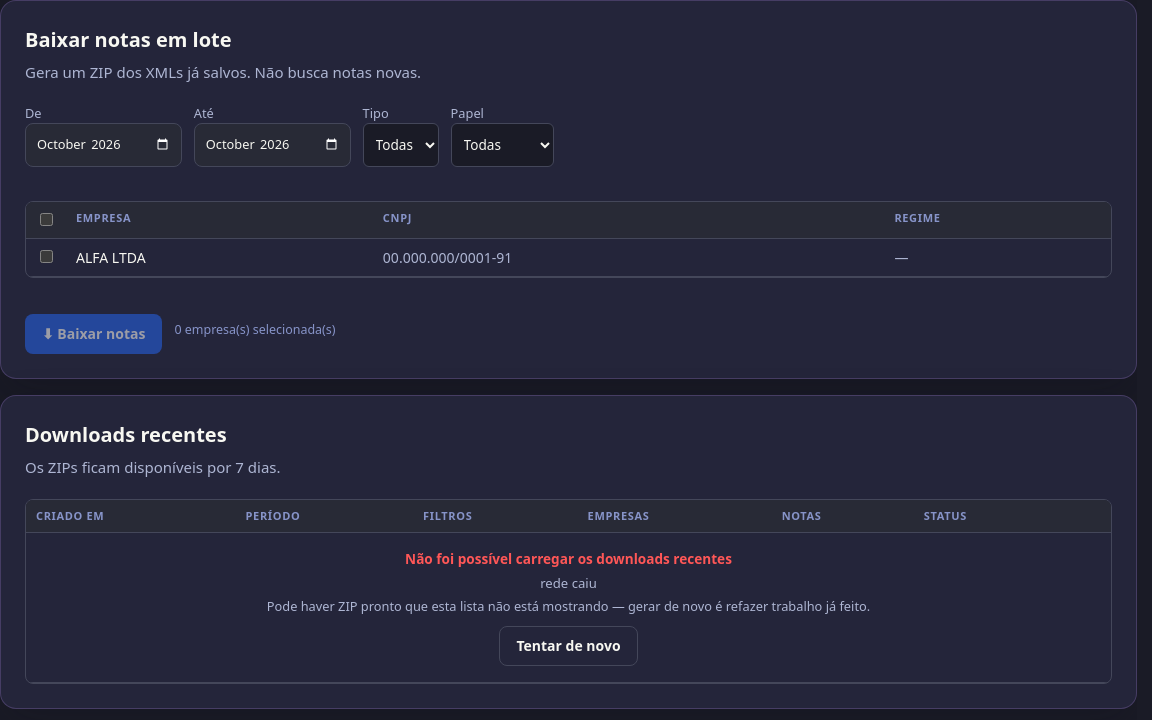
Scenario: Downloads recentes — falha de listagem não é 'não há download' › 'Tentar de novo' recarrega e o ZIP pronto aparece
The width and height of the screenshot is (1152, 720).
Expected: the text "Não foi possível carregar os downloads recentes" is shown, x1=405 y1=549 x2=732 y2=568
Step 1. Click the button "Tentar de novo" → (568, 646), box x1=499 y1=626 x2=638 y2=666
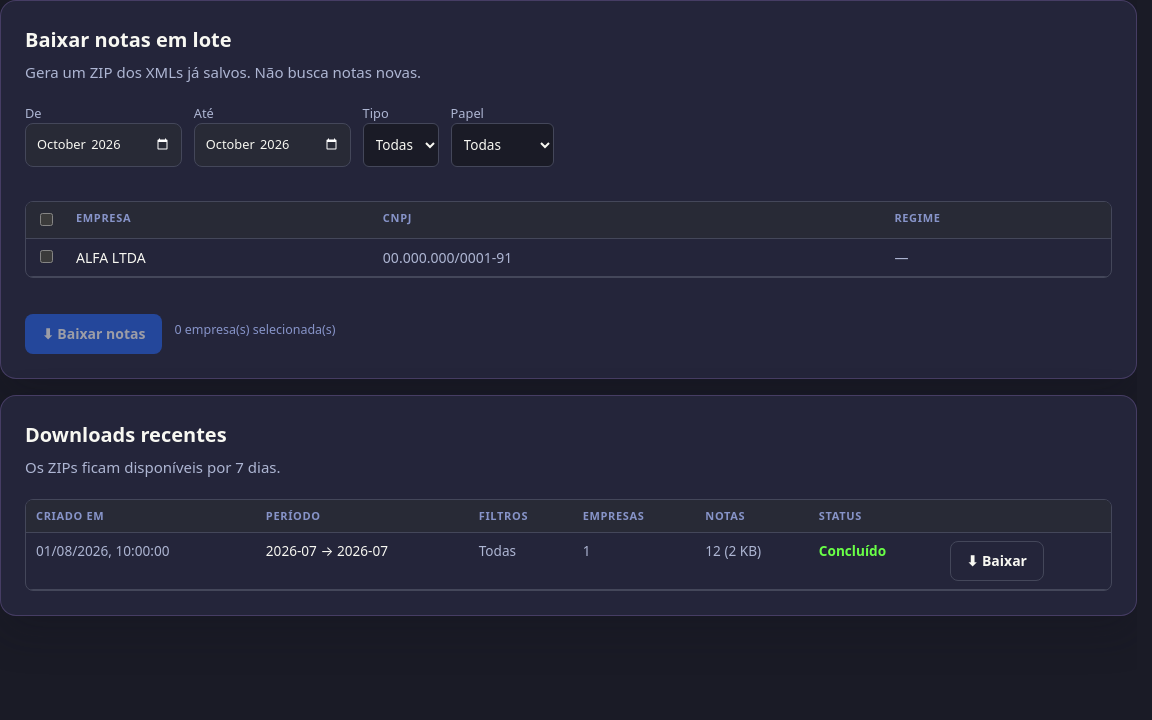
Expected: the button "⬇ Baixar notas" is shown, x1=25 y1=314 x2=162 y2=354
Now the text "Não foi possível carregar" is gone
